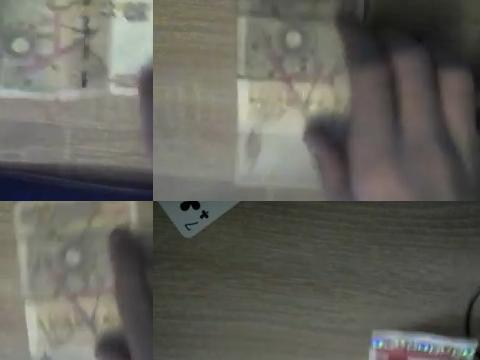10leva: (235, 0, 365, 172), (14, 201, 137, 360)
5leva: (364, 327, 479, 360)
